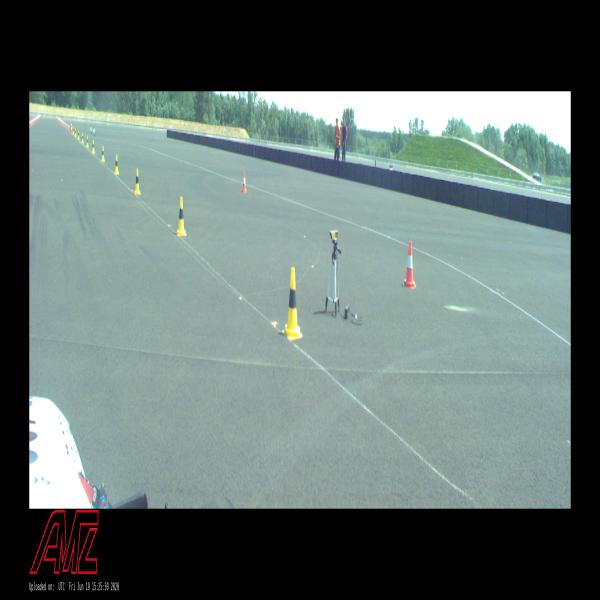large_orange_cone: (70, 121, 72, 132)
orange_cone: (403, 241, 416, 288), (242, 172, 247, 192), (68, 124, 70, 130), (29, 120, 30, 126), (30, 119, 31, 125), (32, 118, 32, 125), (68, 123, 68, 129)
yellow_cone: (282, 268, 302, 339), (176, 197, 187, 236), (134, 169, 141, 194), (114, 155, 119, 174), (101, 146, 105, 161), (92, 140, 95, 153), (81, 133, 84, 143), (77, 130, 80, 139), (86, 136, 88, 146), (72, 126, 74, 134), (75, 128, 76, 136)
